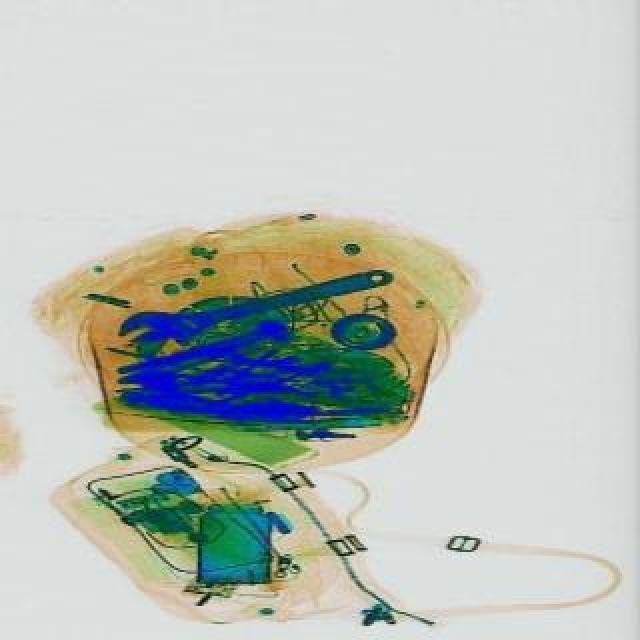scissors: (122, 252, 404, 358)
